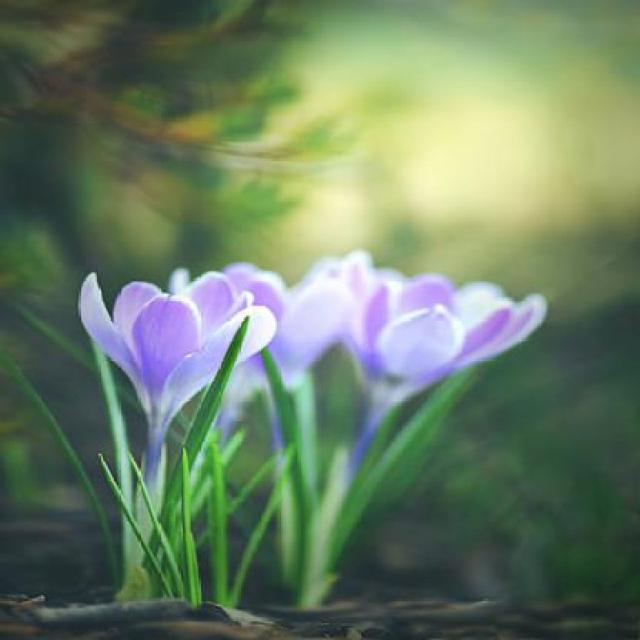Flower: (70, 266, 278, 431), (340, 265, 551, 404)
